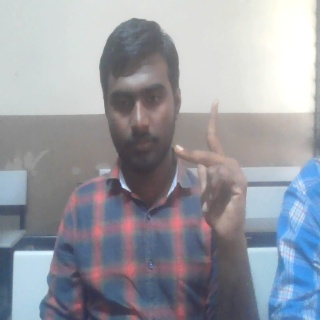Okay: (171, 98, 248, 247)
